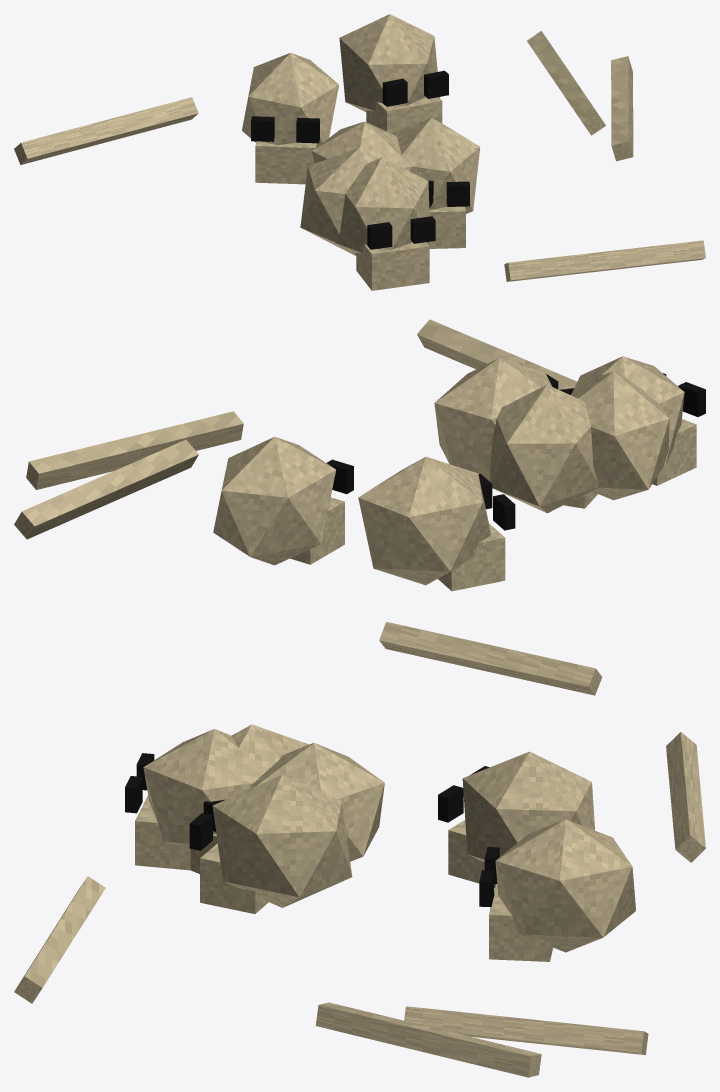
The model's file is skull_pile.glb.
3 views of the same model, one above another, from view 1: azimuth 30°, elevation 25°; view 2: azimuth 150°, elevation 25°; view 3: azimuth 270°, elevation 25° (orthographic). The views are drawn at different scales.
Parts seen in each view (by area): view 1: skull_pile; view 2: skull_pile; view 3: skull_pile.
Boxes of the visible parts, <box> form: skull_pile: <box>14,14,705,290</box>; skull_pile: <box>14,319,705,695</box>; skull_pile: <box>14,724,705,1077</box>.
Size of the model in its own units: 1.26 by 0.24 by 1.13.
1 material, 1 textured.
